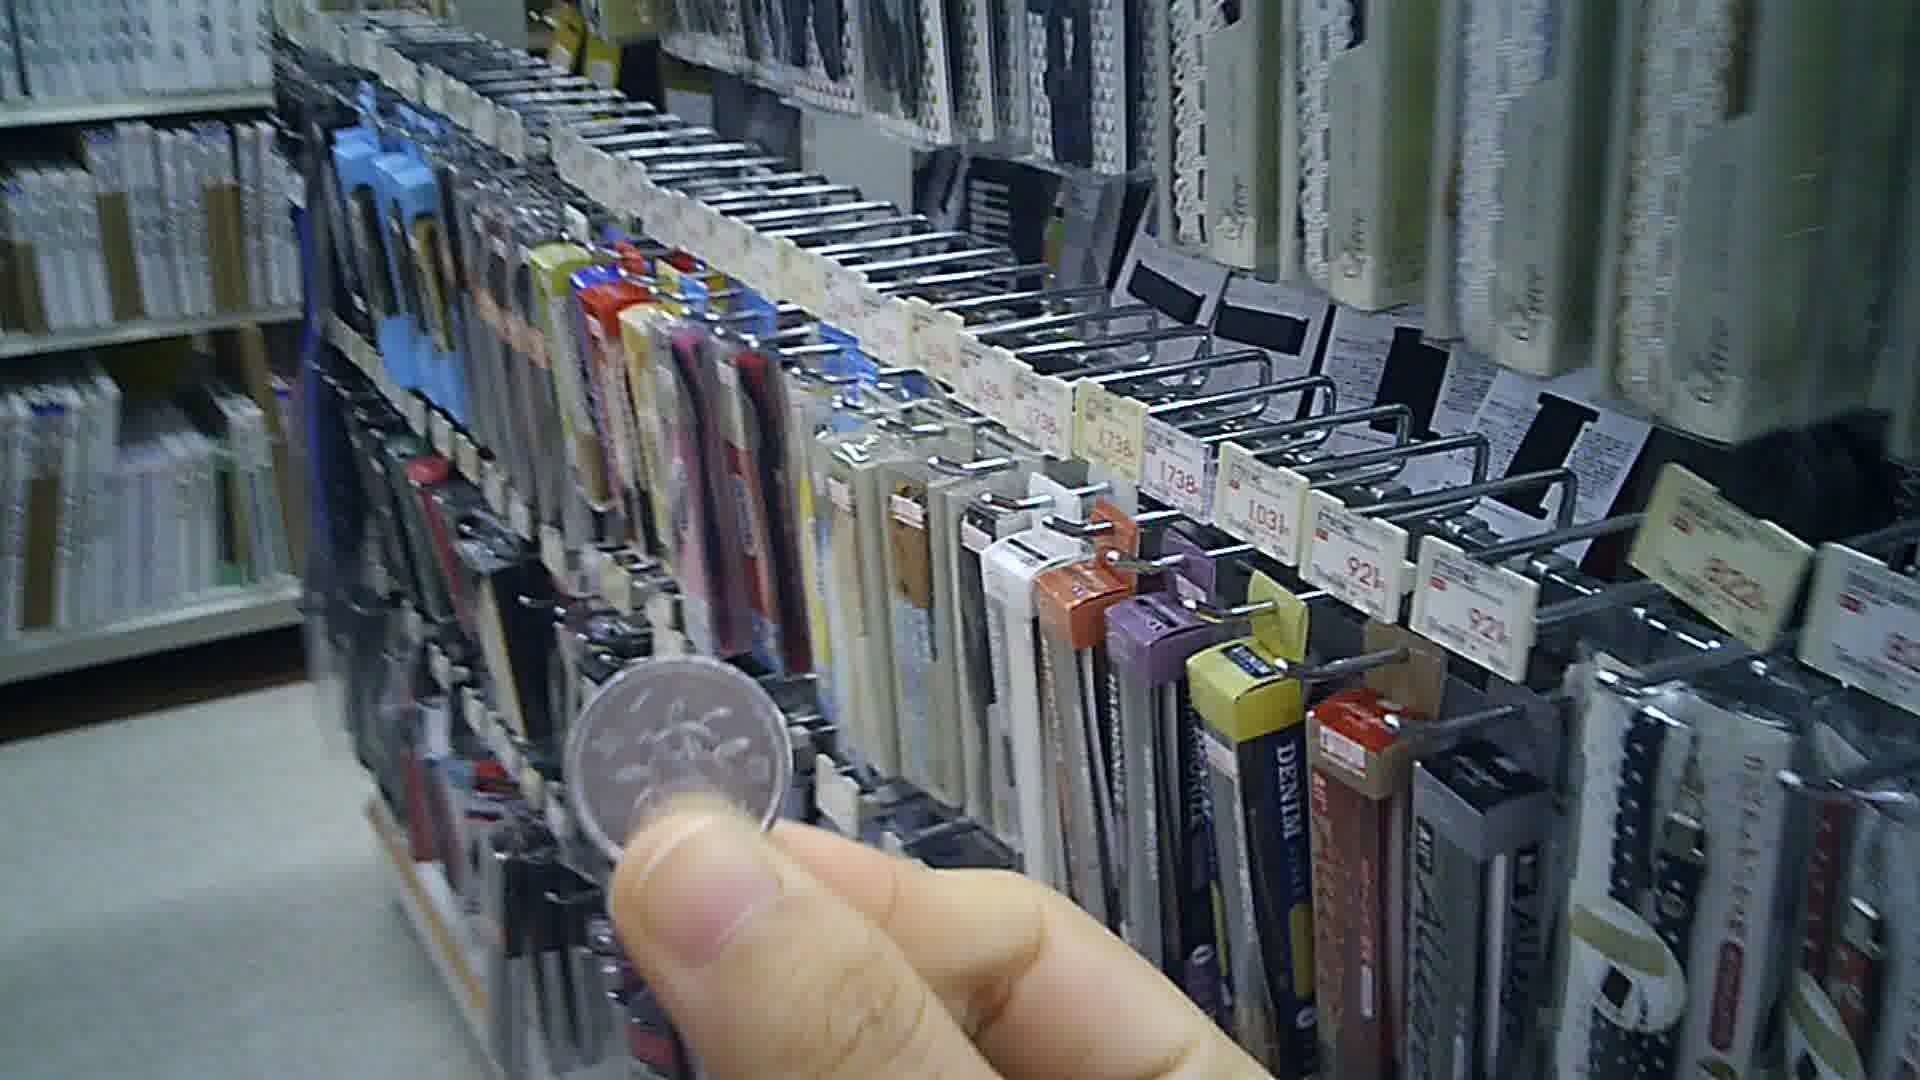1 Yen: (560, 645, 796, 852)
